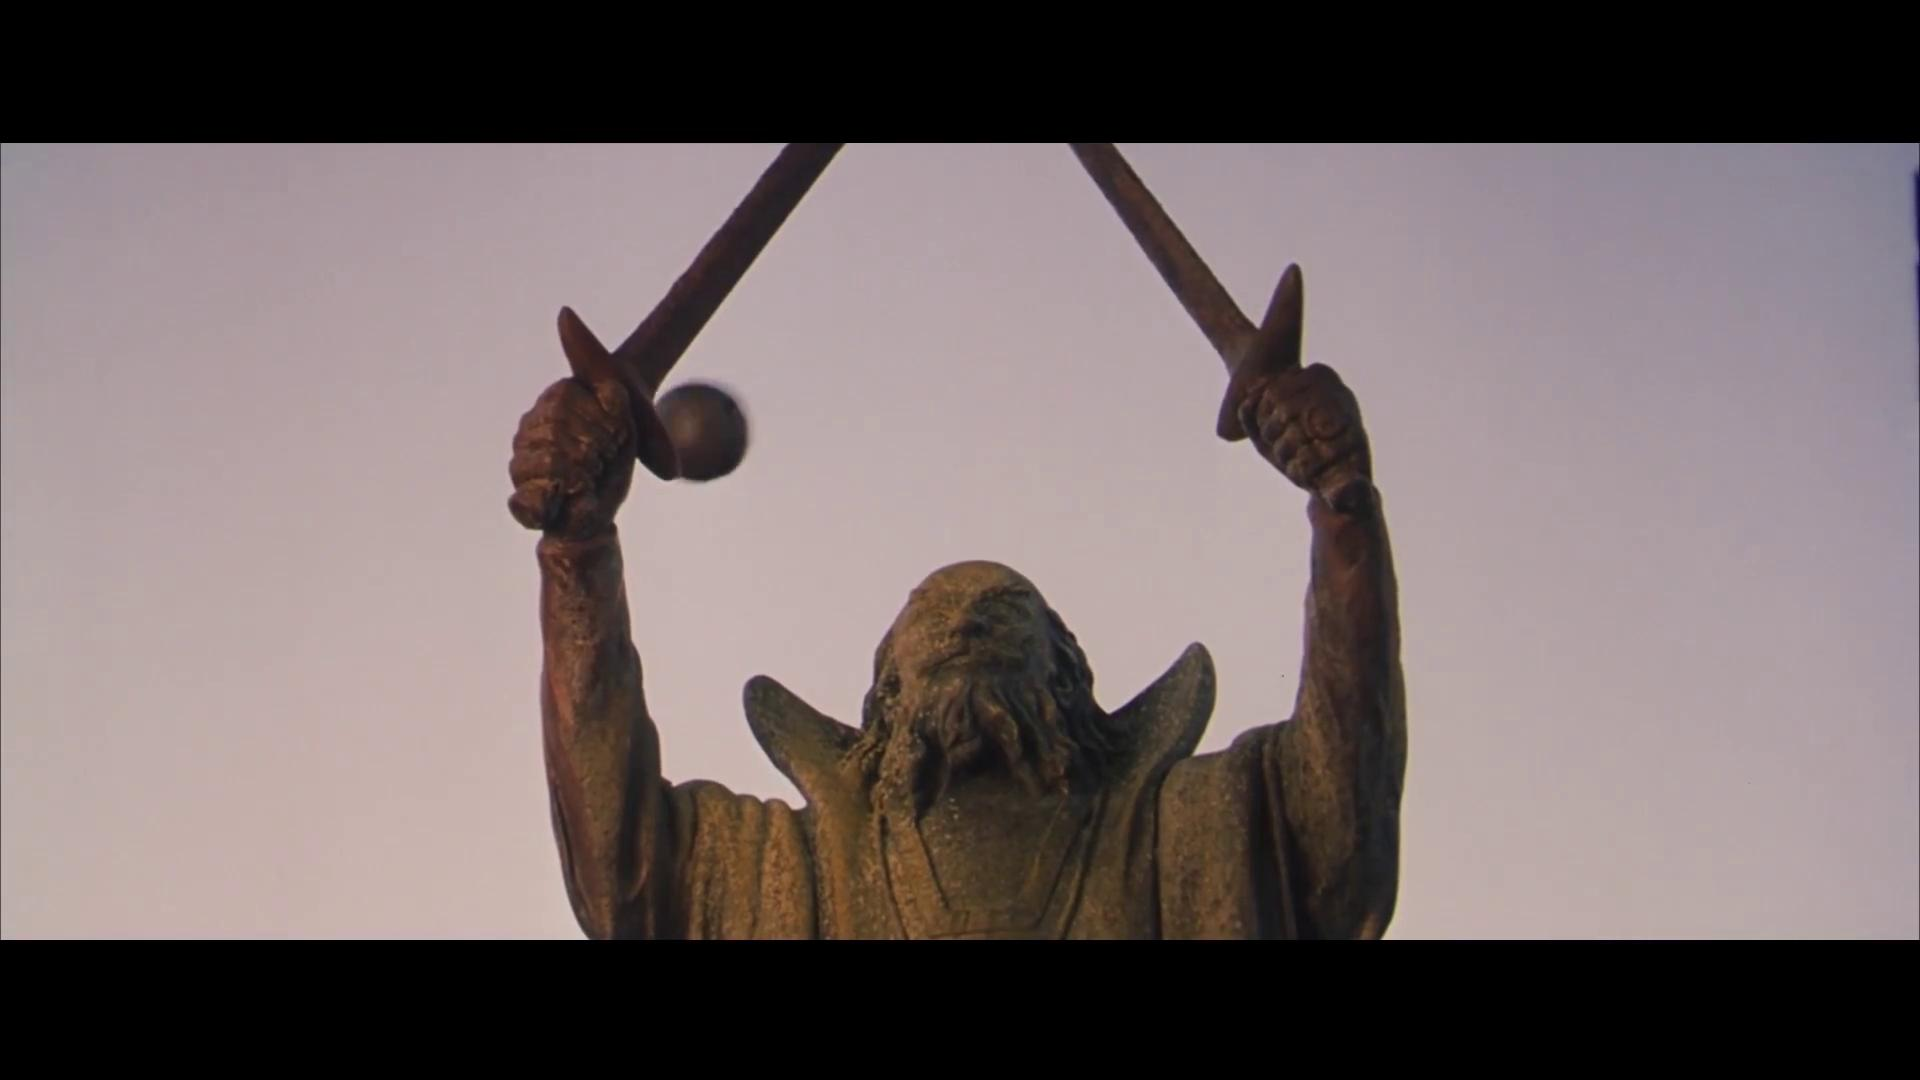bludger: (651, 375, 752, 487)
